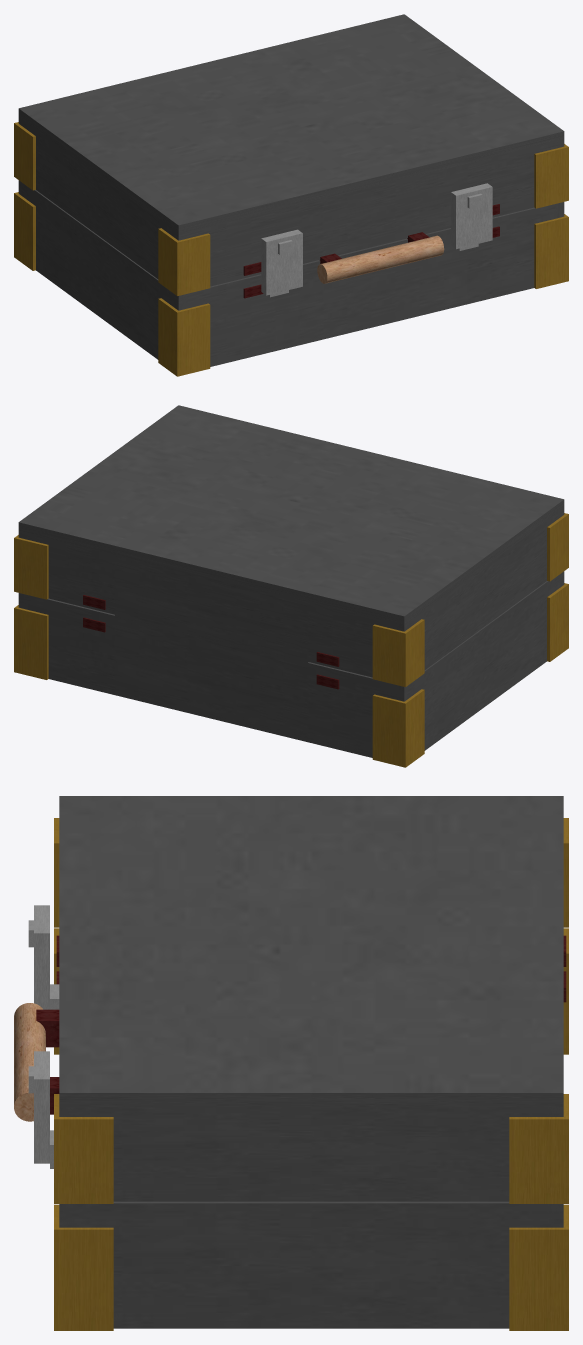
File: Bag_Suitcase_Suitcase__0000.glb
The picture shows the model from 3 angles, top to bottom: view 1: azimuth 30°, elevation 25°; view 2: azimuth 150°, elevation 25°; view 3: azimuth 270°, elevation 25°; orthographic projection. The views are drawn at different scales.
Parts seen in each view (by area): view 1: suitcase_lid::shell_panel, suitcase_body::wall_front, suitcase_lid::wall_front, suitcase_body::wall_left, suitcase_lid::wall_left, suitcase_body::body_corner_0, suitcase_lid::lid_corner_0, suitcase_body::handle_grip, suitcase_body::body_corner_2, latch_right::latch_plate, latch_left::latch_plate, suitcase_lid::lid_corner_2 (+3 smaller); view 2: suitcase_lid::shell_panel, suitcase_body::wall_back, suitcase_lid::wall_back, suitcase_body::wall_left, suitcase_lid::wall_left, suitcase_body::body_corner_1, suitcase_lid::lid_corner_1, suitcase_body::body_corner_3, suitcase_body::shell_panel, suitcase_lid::lid_corner_3, suitcase_body::body_corner_0, suitcase_lid::lid_corner_0 (+1 smaller); view 3: suitcase_lid::shell_panel, suitcase_body::wall_right, suitcase_lid::wall_right, suitcase_body::body_corner_2, suitcase_body::body_corner_3, suitcase_lid::lid_corner_2, suitcase_lid::lid_corner_3, suitcase_body::handle_grip, latch_right::latch_plate, latch_left::latch_plate, suitcase_body::handle_loop_l, suitcase_lid::lid_corner_0 (+1 smaller).
Boxes of the visible parts, x1=… form: suitcase_lid::shell_panel: x1=18, y1=14, x2=564, y2=234; suitcase_body::wall_front: x1=173, y1=202, x2=564, y2=366; suitcase_lid::wall_front: x1=178, y1=140, x2=564, y2=286; suitcase_body::wall_left: x1=18, y1=180, x2=187, y2=359; suitcase_lid::wall_left: x1=18, y1=118, x2=178, y2=278; suitcase_body::body_corner_0: x1=158, y1=298, x2=210, y2=376; suitcase_lid::lid_corner_0: x1=158, y1=228, x2=210, y2=295; suitcase_body::handle_grip: x1=317, y1=235, x2=444, y2=283; suitcase_body::body_corner_2: x1=534, y1=214, x2=568, y2=288; latch_right::latch_plate: x1=451, y1=183, x2=492, y2=249; latch_left::latch_plate: x1=261, y1=229, x2=302, y2=295; suitcase_lid::lid_corner_2: x1=534, y1=144, x2=568, y2=208; suitcase_lid::shell_panel: x1=18, y1=405, x2=564, y2=625; suitcase_body::wall_back: x1=18, y1=593, x2=406, y2=757; suitcase_lid::wall_back: x1=18, y1=531, x2=408, y2=677; suitcase_body::wall_left: x1=395, y1=571, x2=564, y2=750; suitcase_lid::wall_left: x1=396, y1=509, x2=564, y2=669; suitcase_body::body_corner_1: x1=372, y1=689, x2=424, y2=767; suitcase_lid::lid_corner_1: x1=372, y1=619, x2=424, y2=686; suitcase_body::body_corner_3: x1=14, y1=605, x2=48, y2=679; suitcase_body::shell_panel: x1=66, y1=679, x2=513, y2=757; suitcase_lid::lid_corner_3: x1=14, y1=535, x2=48, y2=599; suitcase_body::body_corner_0: x1=547, y1=583, x2=568, y2=661; suitcase_lid::lid_corner_0: x1=547, y1=513, x2=568, y2=581; suitcase_lid::shell_panel: x1=59, y1=796, x2=563, y2=1107; suitcase_body::wall_right: x1=59, y1=1201, x2=563, y2=1328; suitcase_lid::wall_right: x1=59, y1=1107, x2=563, y2=1201; suitcase_body::body_corner_2: x1=54, y1=1204, x2=113, y2=1330; suitcase_body::body_corner_3: x1=509, y1=1204, x2=568, y2=1330; suitcase_lid::lid_corner_2: x1=54, y1=1094, x2=113, y2=1203; suitcase_lid::lid_corner_3: x1=509, y1=1094, x2=568, y2=1203; suitcase_body::handle_grip: x1=14, y1=1003, x2=45, y2=1121; latch_right::latch_plate: x1=34, y1=1051, x2=49, y2=1163; latch_left::latch_plate: x1=34, y1=905, x2=49, y2=1009; suitcase_body::handle_loop_l: x1=36, y1=1009, x2=59, y2=1047; suitcase_lid::lid_corner_0: x1=54, y1=818, x2=59, y2=927.
Bounding box in the file's own units: 0.5366 × 0.1956 × 0.4176.
Materials: 5 (5 with a texture image).
